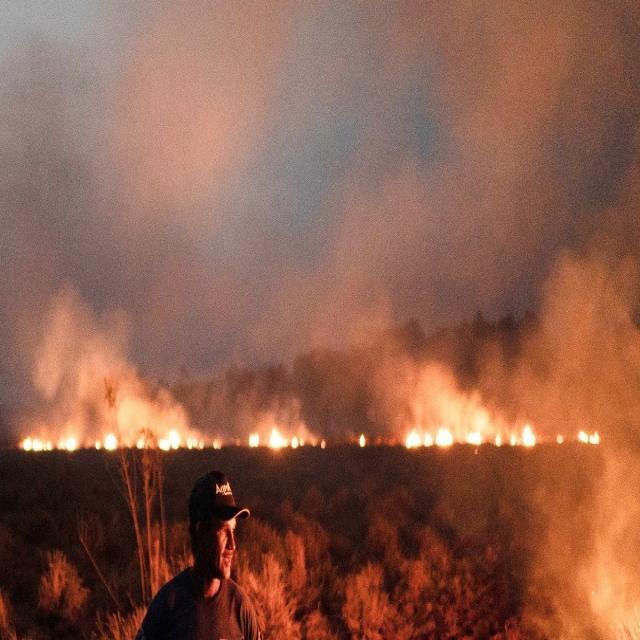Fire: (19, 428, 330, 452), (402, 420, 535, 450), (574, 427, 602, 447), (356, 431, 368, 449), (556, 434, 564, 446)
Smoke: (217, 0, 640, 363), (0, 0, 217, 409), (526, 258, 640, 640), (25, 280, 193, 428), (377, 352, 495, 422)
